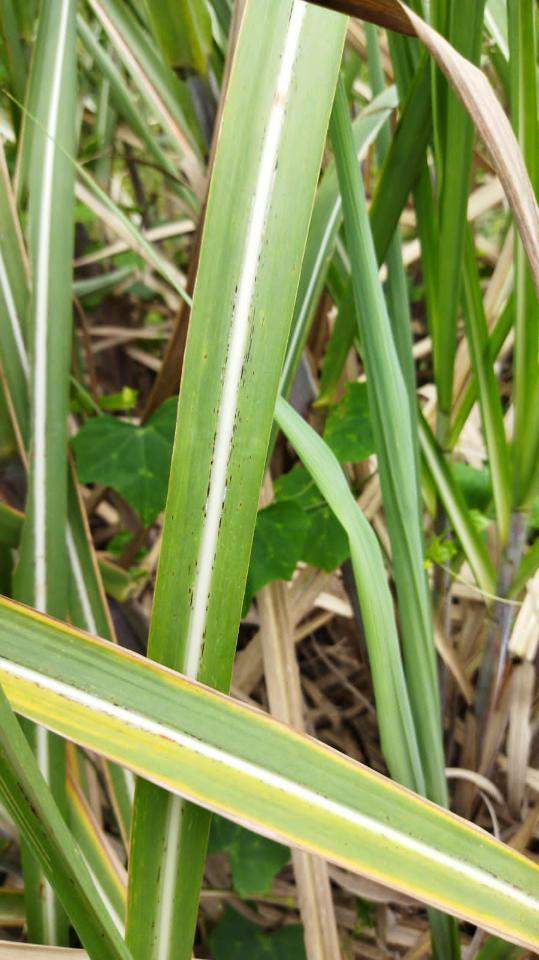Rust: (199, 202, 280, 659), (219, 282, 240, 388), (200, 428, 219, 520), (476, 862, 526, 893), (12, 779, 41, 821), (180, 727, 207, 744), (186, 556, 198, 577), (286, 0, 296, 24), (155, 865, 164, 886), (188, 587, 194, 612), (235, 499, 245, 514), (161, 835, 168, 853), (212, 405, 221, 416), (274, 157, 280, 172), (41, 831, 49, 841), (202, 350, 209, 361), (69, 877, 77, 886), (180, 806, 185, 817), (170, 514, 175, 522), (151, 920, 155, 930), (252, 370, 256, 377), (248, 454, 252, 461), (101, 932, 106, 937), (191, 531, 195, 536)
